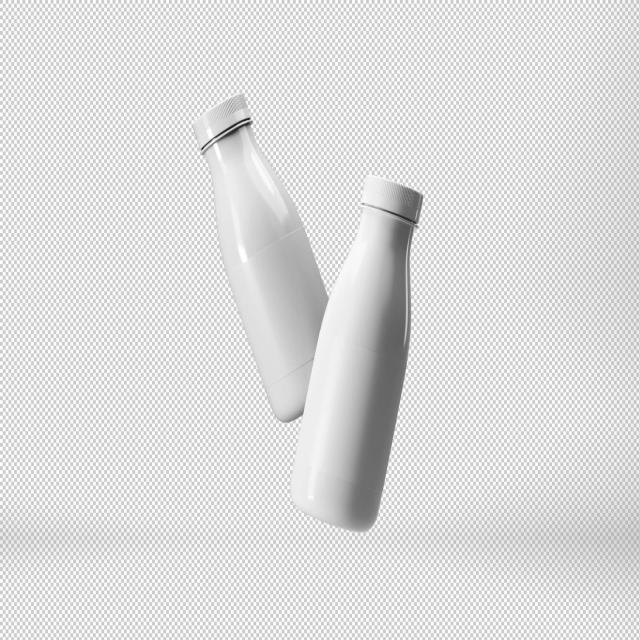plastic_bottle: (190, 82, 368, 428), (292, 176, 427, 423)
